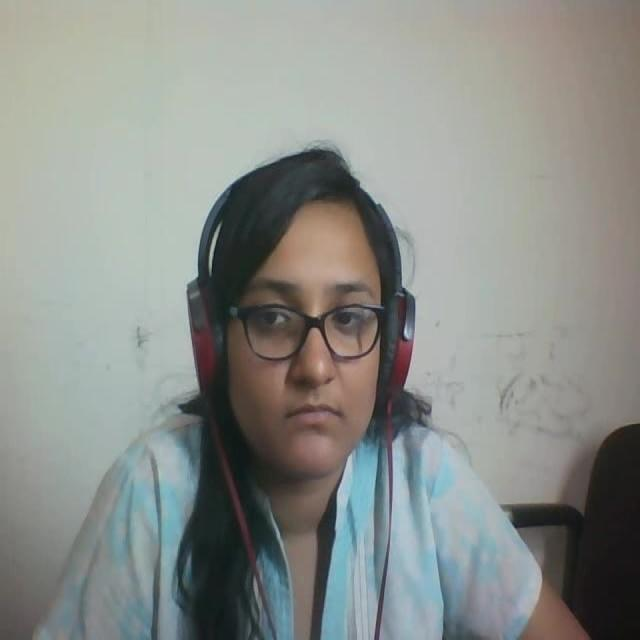Engaged: (174, 130, 434, 498)
